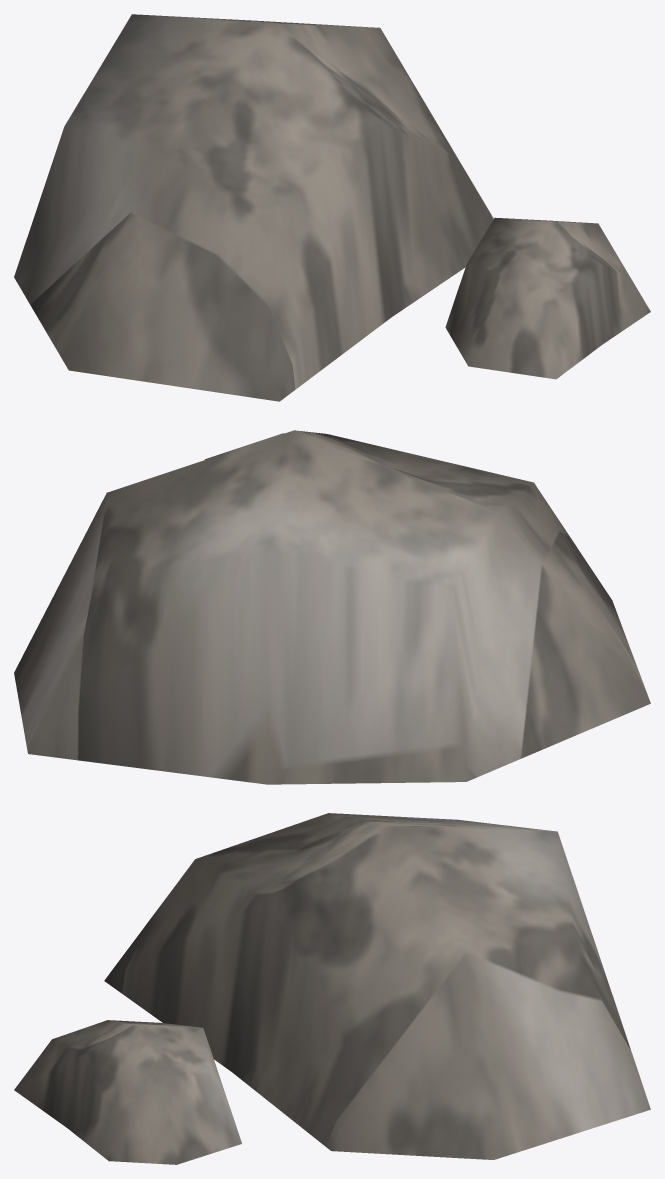
The model's file is rock.fbx.
3 views of the same model, one above another, from view 1: azimuth 30°, elevation 25°; view 2: azimuth 150°, elevation 25°; view 3: azimuth 270°, elevation 25° (orthographic). The views are drawn at different scales.
Visible parts, largest first — view 1: pasted__pasted__pasted__pCube1, pasted__pasted__pasted__pCube2; view 2: pasted__pasted__pasted__pCube1; view 3: pasted__pasted__pasted__pCube1, pasted__pasted__pasted__pCube2.
Part boxes in pixels (bbox=[...]): pasted__pasted__pasted__pCube1: bbox=[14, 14, 493, 401]; pasted__pasted__pasted__pCube2: bbox=[445, 217, 650, 379]; pasted__pasted__pasted__pCube1: bbox=[14, 430, 650, 784]; pasted__pasted__pasted__pCube1: bbox=[104, 813, 650, 1159]; pasted__pasted__pasted__pCube2: bbox=[14, 1020, 241, 1164].
Bounding box in the file's own units: 1.11 × 0.523 × 1.25.
1 material, 1 textured.
